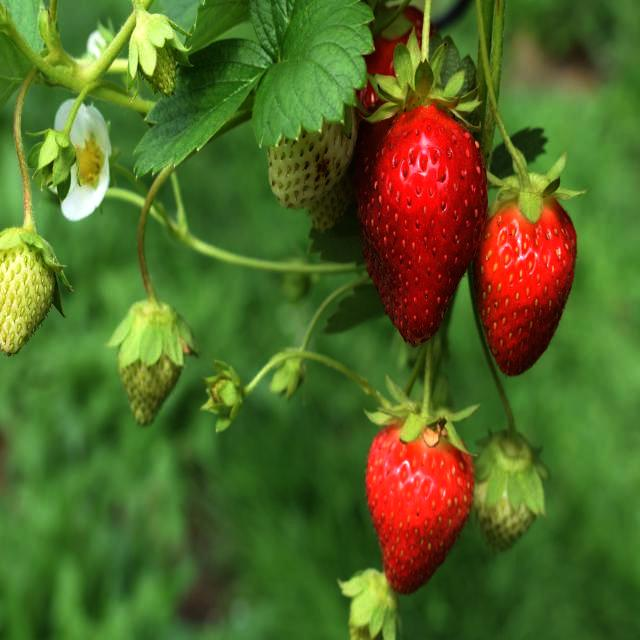ripe: (347, 82, 497, 350), (352, 404, 476, 596), (471, 174, 583, 378), (348, 2, 452, 112)
unripe: (265, 47, 365, 212), (0, 225, 75, 370), (115, 288, 186, 436), (470, 430, 546, 562), (128, 11, 190, 105)
